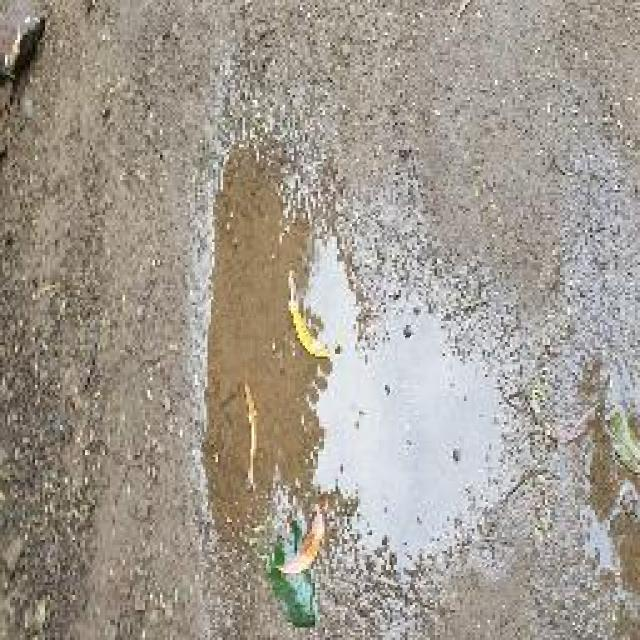puddle: (201, 144, 528, 586)
